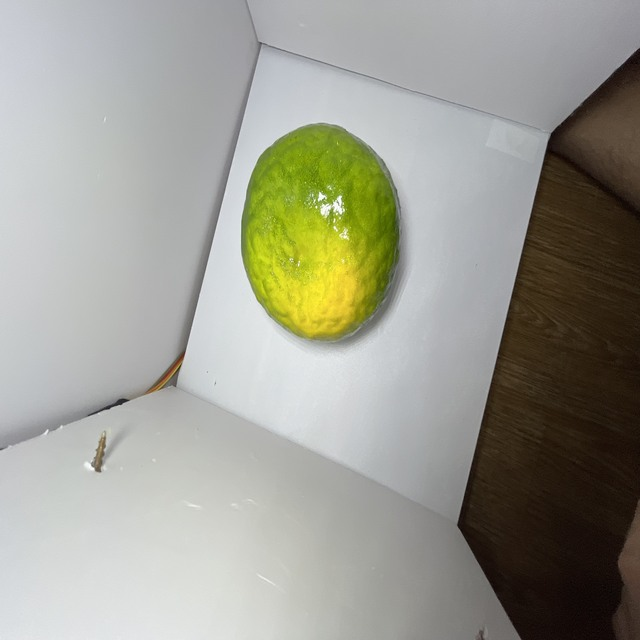Cam xanh: (237, 122, 408, 346)
